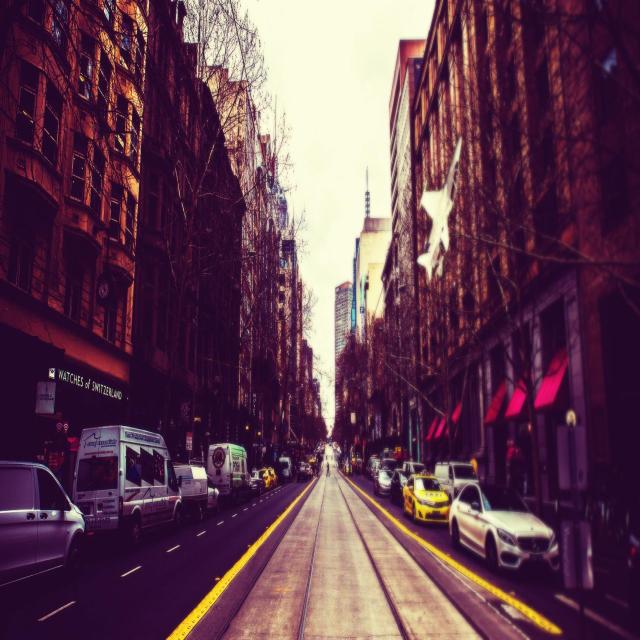airplane: (416, 135, 463, 286)
